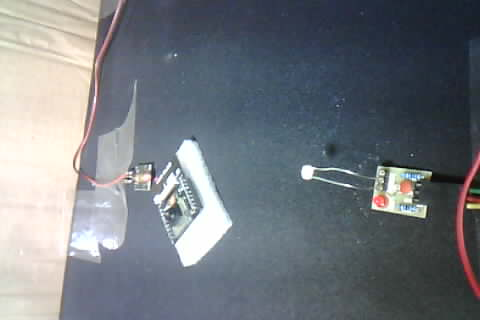esp32: (153, 139, 230, 261)
